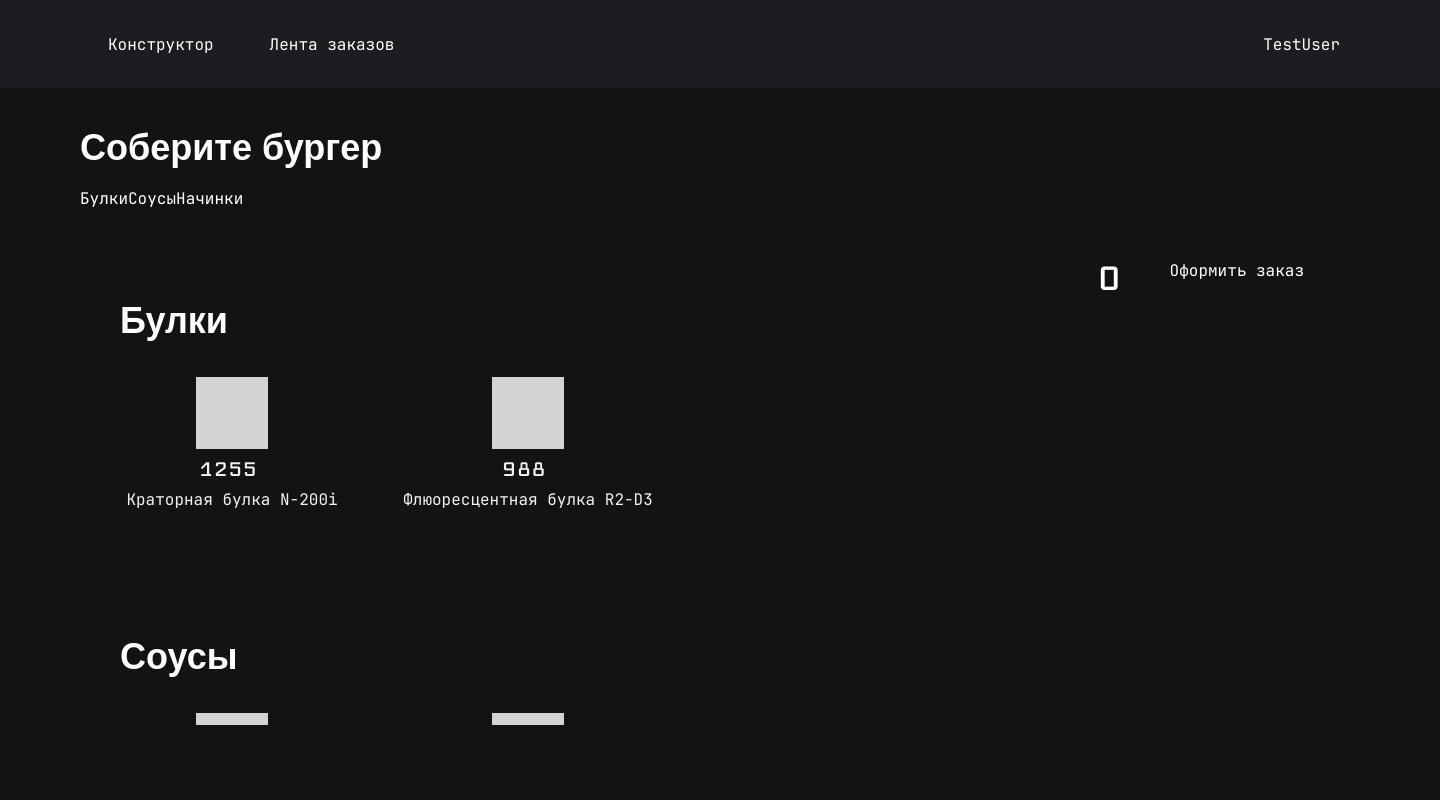
Test: ingredient details in a modal window › the URL and content of the modal should be correct
Click the link "1255 Краторная булка N-200i".
click(232, 444)  # box [126,377,337,510]
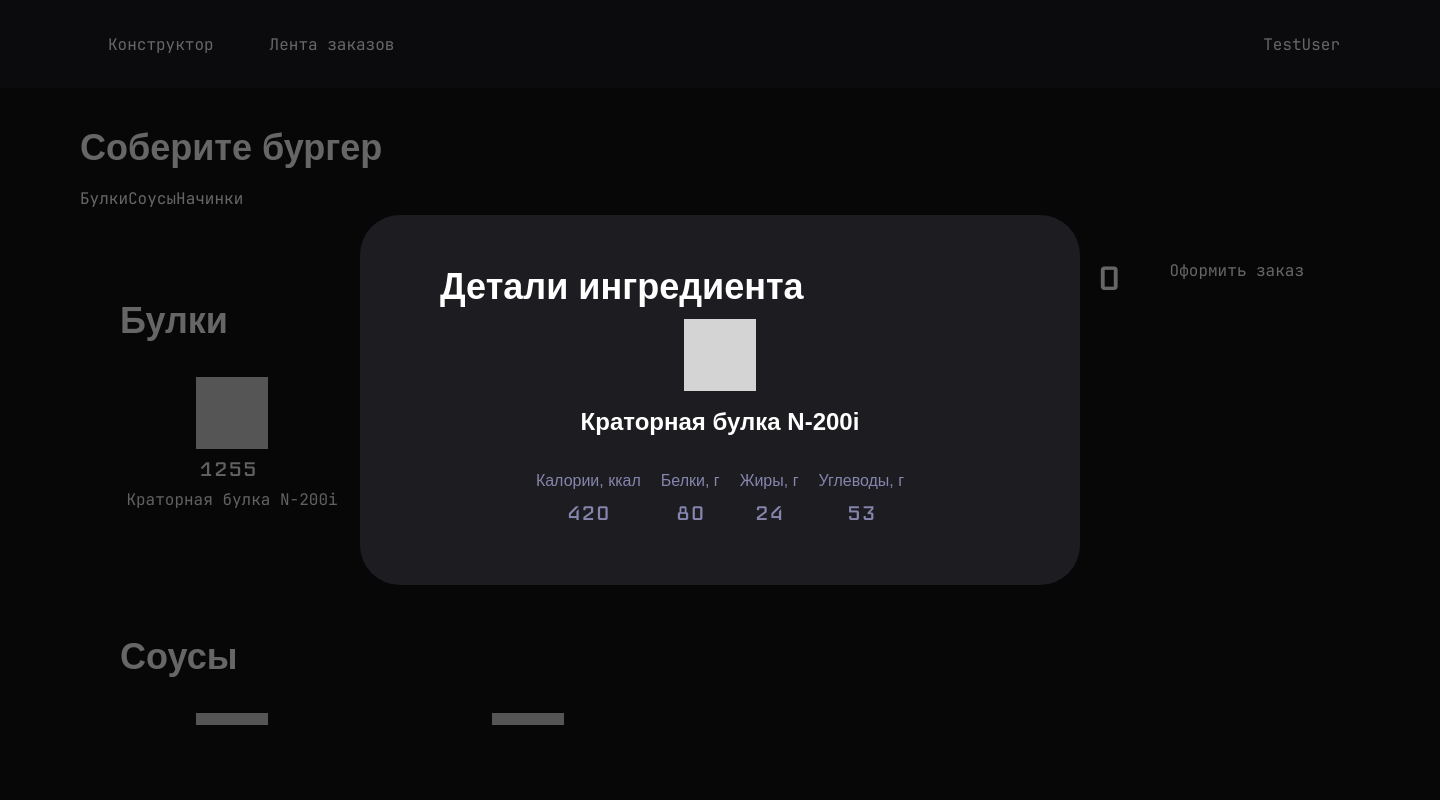
Expected: the element with test id "modal" shows "Детали ингредиента", [360,215,1080,585]
